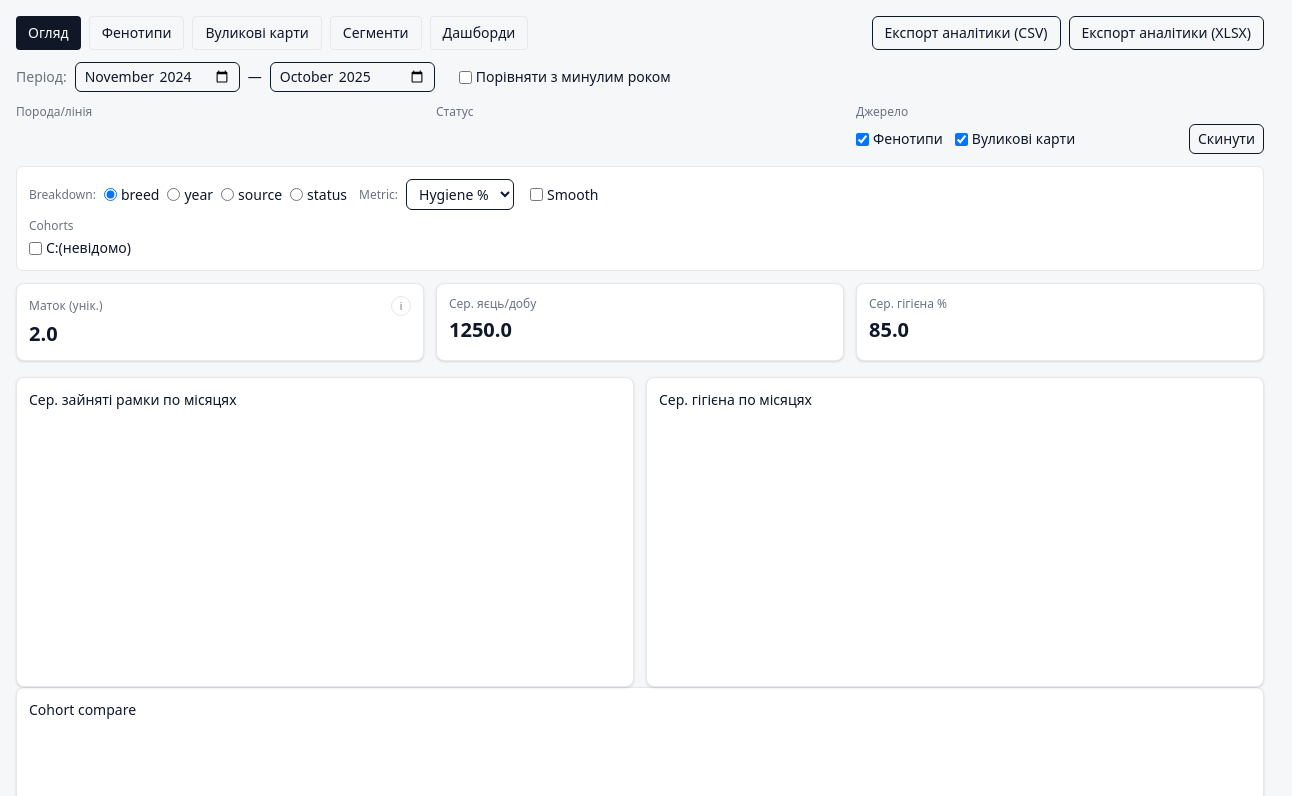
Analytics range filtering › updates when date range changes
Click the button "Фенотипи": (136, 33) [89,16,184,50]
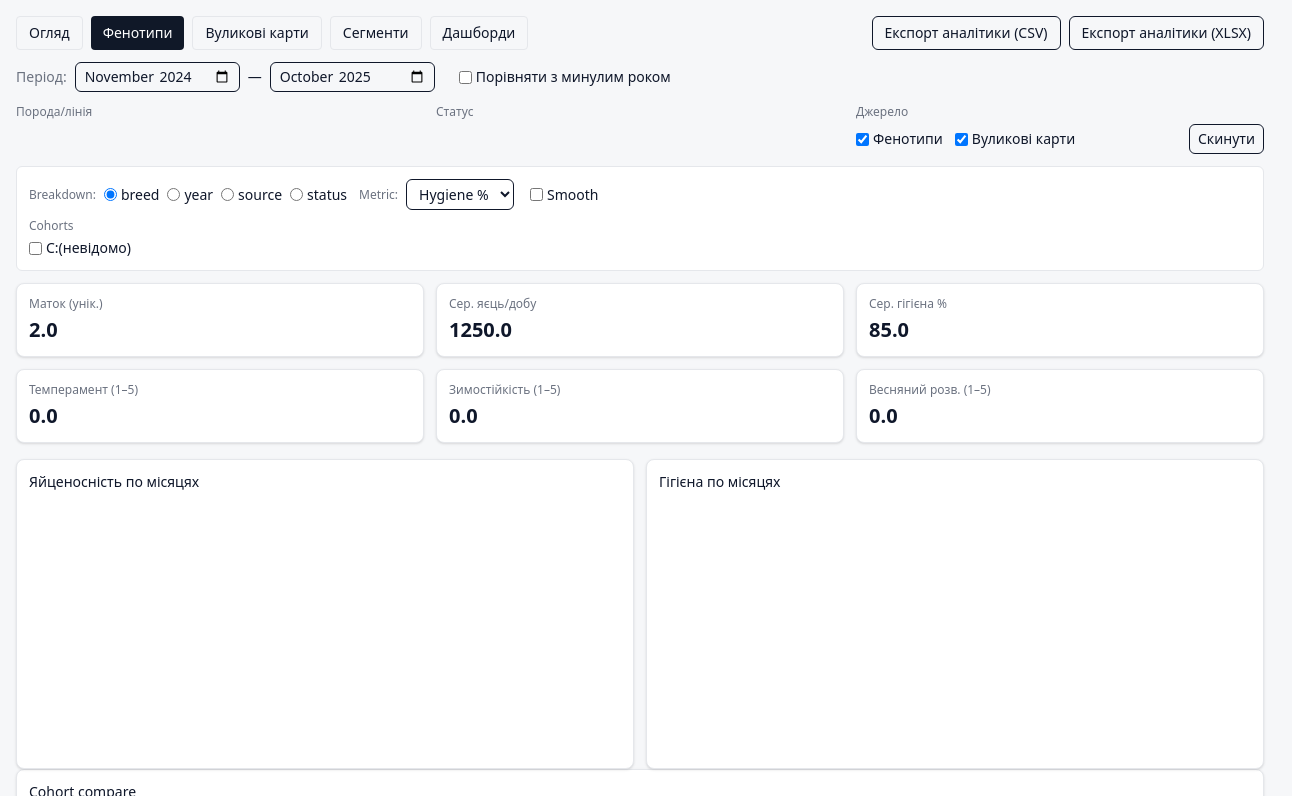
Replace the text in the field named "Від місяця" with "2025-01": (157, 77) [75,62,240,92]
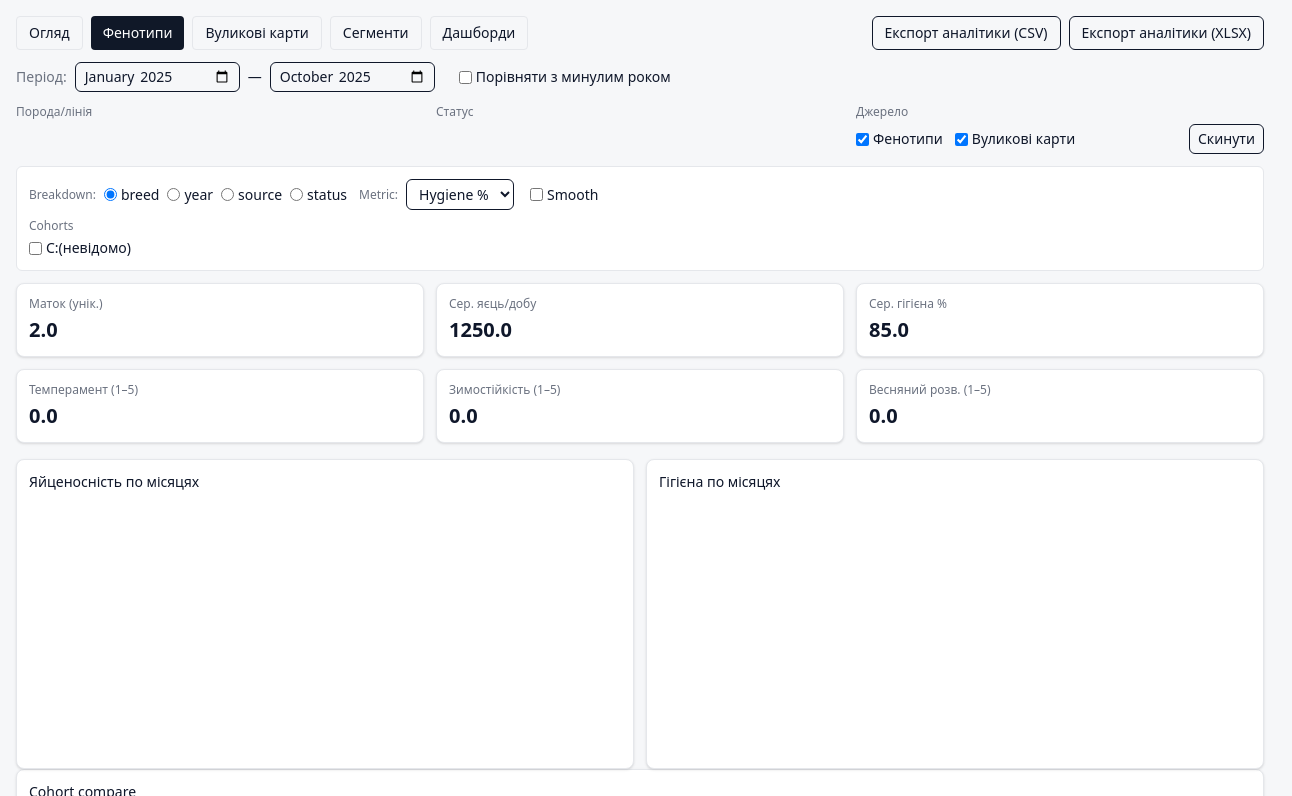
Replace the text in the field named "До місяця" with "2025-01": (352, 77) [270,62,435,92]
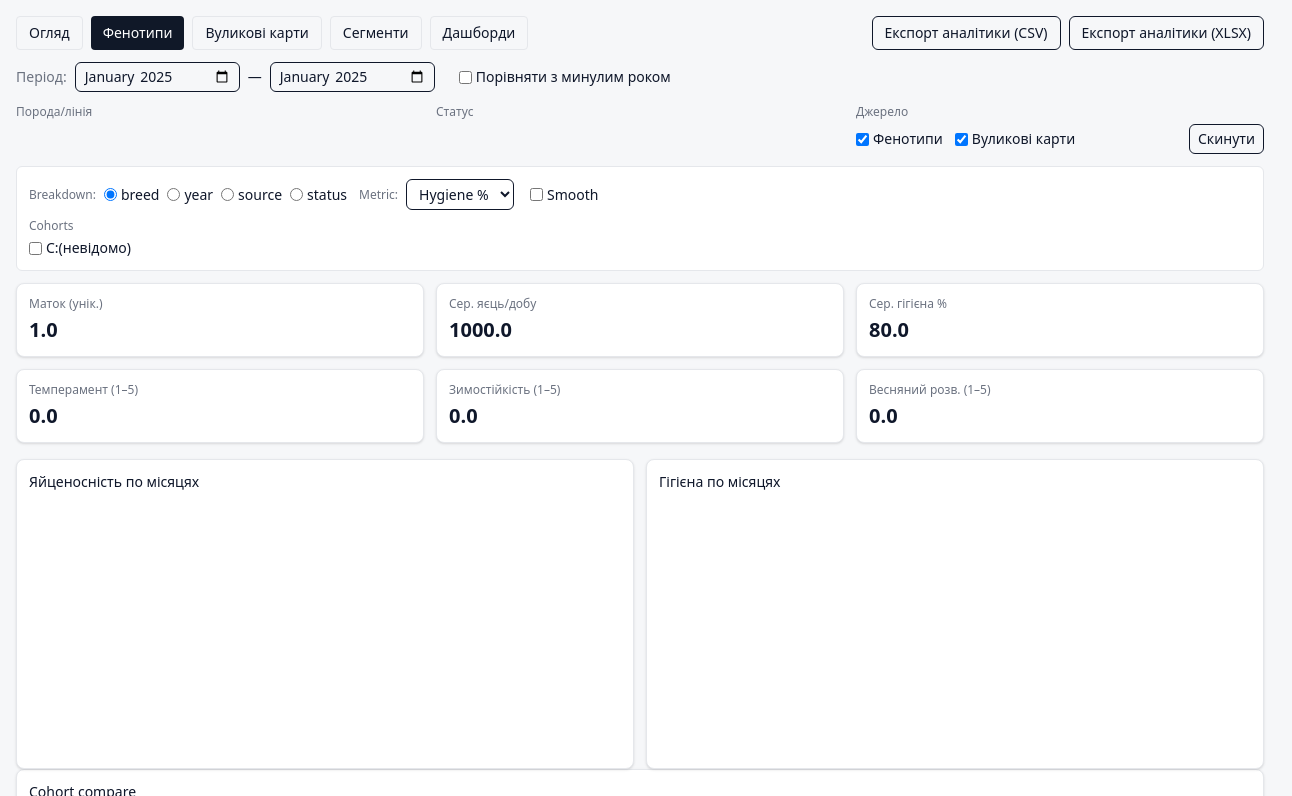
Expected: the text "Немає записів за обраний період" is not shown
Replace the text in the field named "Від місяця" with "2024-01": (157, 77) [75,62,240,92]
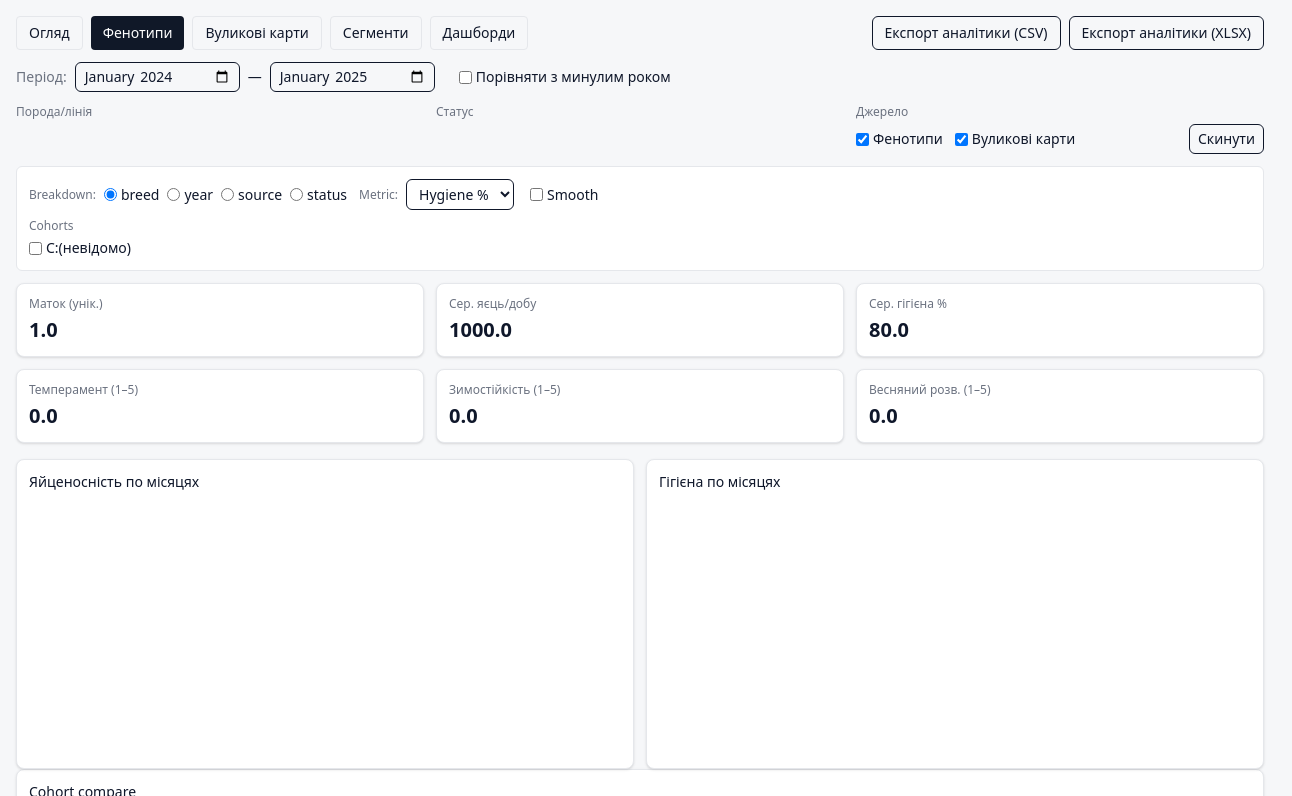
Replace the text in the field named "До місяця" with "2024-01": (352, 77) [270,62,435,92]
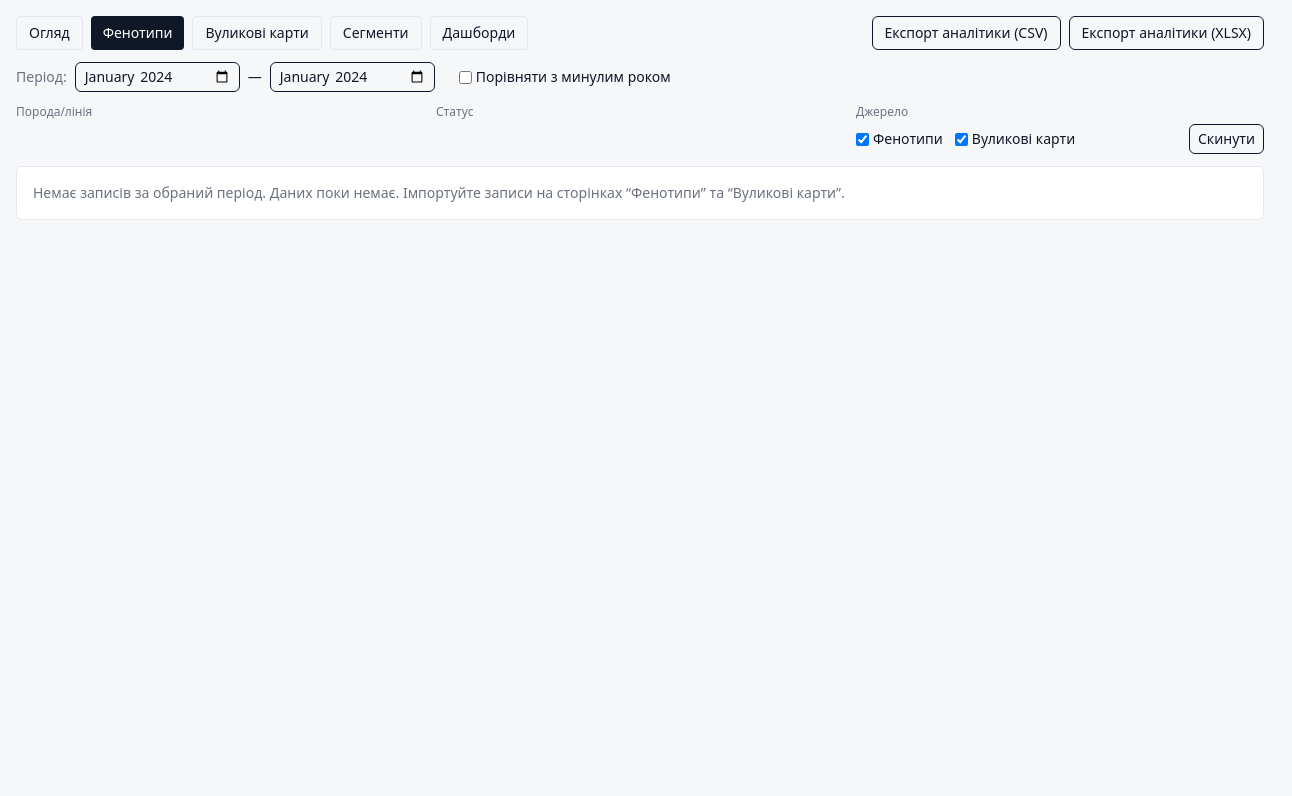
Expected: the text "Немає записів за обраний період" is shown, [33,183,845,202]
